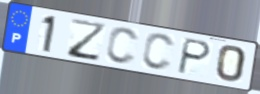0: (214, 44, 248, 84)
1: (40, 14, 58, 54)
C: (140, 32, 176, 73), (104, 26, 140, 67)
P: (175, 37, 214, 76)
Z: (66, 17, 108, 64)
